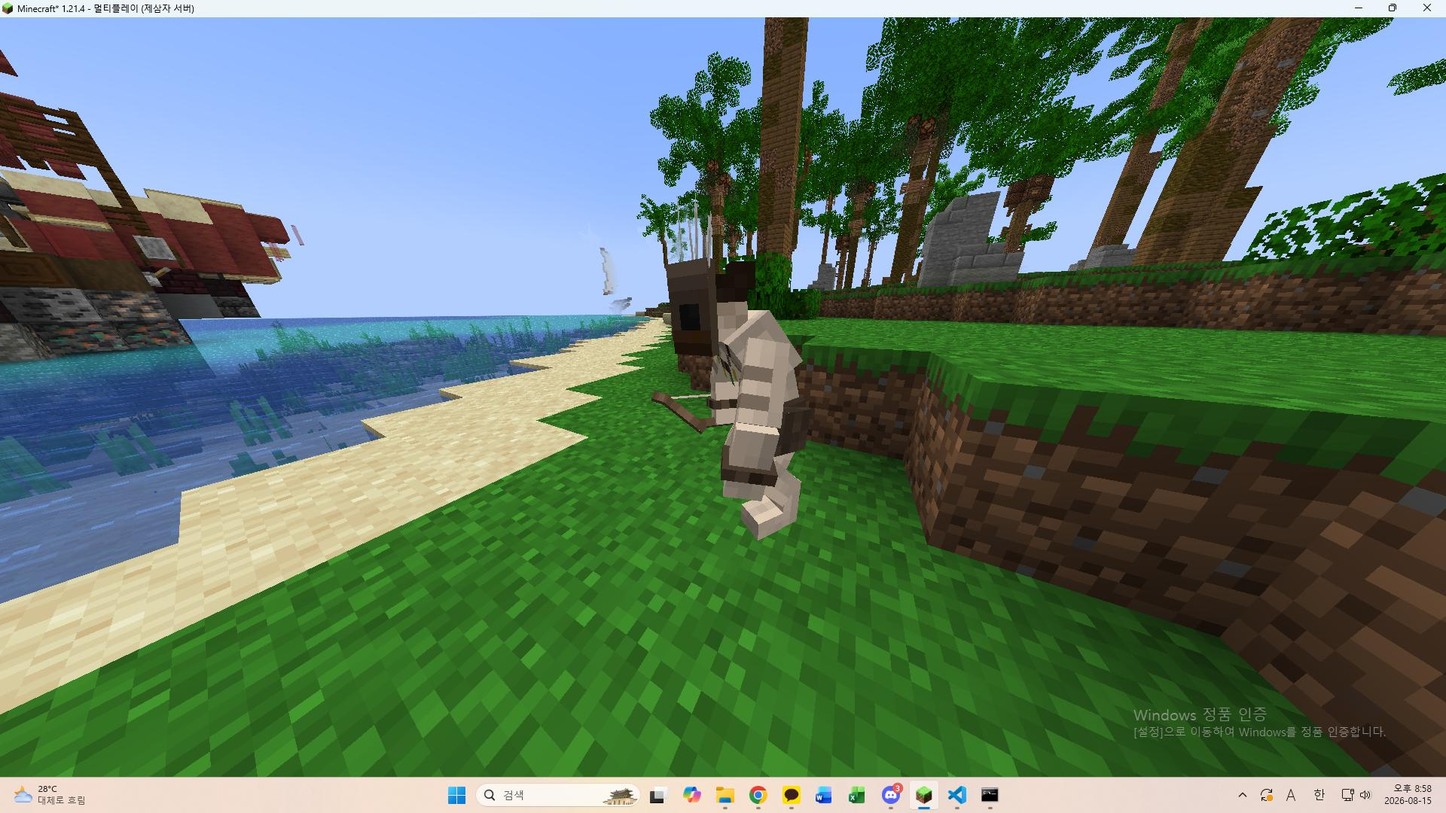bow_indian: (615, 194, 870, 565)
